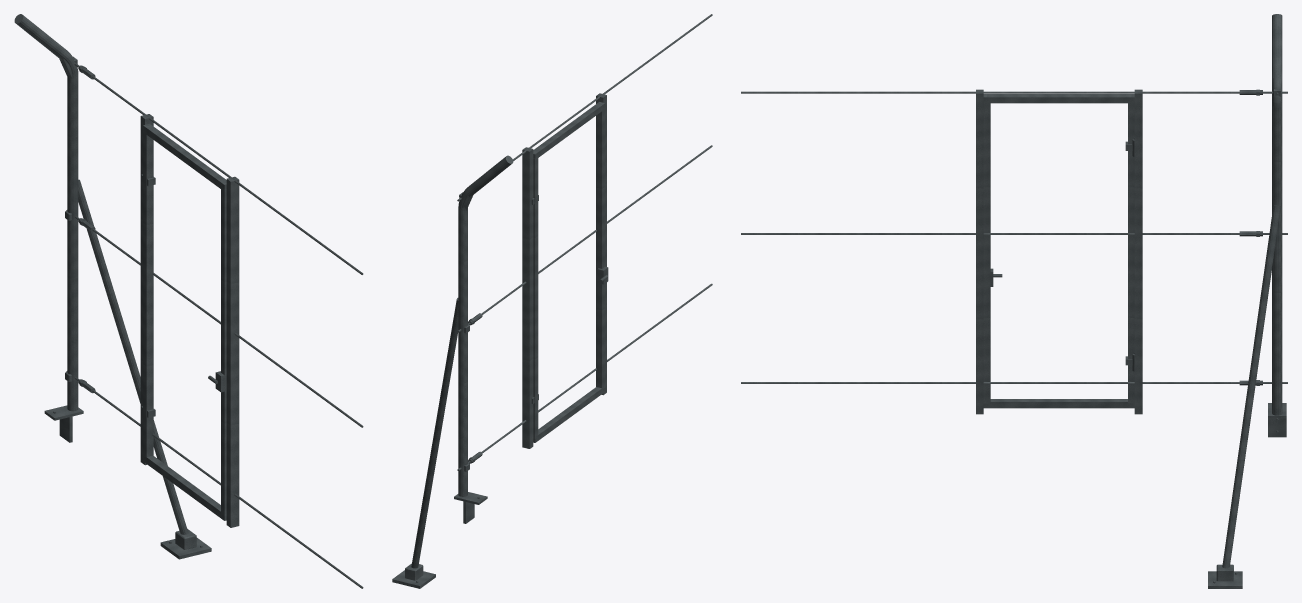
The model's file is aurel-catch-fence.glb.
3 renders of one model, left to right at view 1: azimuth 30°, elevation 25°; view 2: azimuth 150°, elevation 25°; view 3: azimuth 270°, elevation 25°, orthographic. The views are drawn at different scales.
Parts seen in each view (by area): view 1: A03_BRACED_LOD0_STEEL, A03_GATE_LOD0_STEEL, A03_GATE_LOD1_STEEL, A03_BRACED_LOD1_STEEL, A03_BRACED_LOD2_STEEL; view 2: A03_BRACED_LOD0_STEEL, A03_GATE_LOD1_STEEL, A03_GATE_LOD0_STEEL, A03_BRACED_LOD1_STEEL, A03_BRACED_LOD2_STEEL; view 3: A03_BRACED_LOD0_STEEL, A03_GATE_LOD0_STEEL, A03_GATE_LOD1_STEEL, A03_BRACED_LOD1_STEEL, A03_BRACED_LOD2_STEEL.
Part boxes in pixels (x1=…): A03_BRACED_LOD0_STEEL: x1=14, y1=14, x2=363, y2=588; A03_GATE_LOD0_STEEL: x1=141, y1=116, x2=238, y2=527; A03_GATE_LOD1_STEEL: x1=140, y1=114, x2=239, y2=527; A03_BRACED_LOD1_STEEL: x1=15, y1=14, x2=362, y2=588; A03_BRACED_LOD2_STEEL: x1=17, y1=14, x2=185, y2=534; A03_BRACED_LOD0_STEEL: x1=392, y1=14, x2=712, y2=587; A03_GATE_LOD1_STEEL: x1=522, y1=93, x2=608, y2=448; A03_GATE_LOD0_STEEL: x1=522, y1=93, x2=608, y2=448; A03_BRACED_LOD1_STEEL: x1=392, y1=15, x2=712, y2=588; A03_BRACED_LOD2_STEEL: x1=411, y1=156, x2=510, y2=566; A03_BRACED_LOD0_STEEL: x1=741, y1=14, x2=1287, y2=588; A03_GATE_LOD0_STEEL: x1=976, y1=90, x2=1142, y2=413; A03_GATE_LOD1_STEEL: x1=976, y1=89, x2=1142, y2=414; A03_BRACED_LOD1_STEEL: x1=741, y1=92, x2=1287, y2=588; A03_BRACED_LOD2_STEEL: x1=1228, y1=14, x2=1279, y2=567.
Bounding box in the file's own units: 1.18 × 3.87 × 3.79.
1 material, 1 textured.
